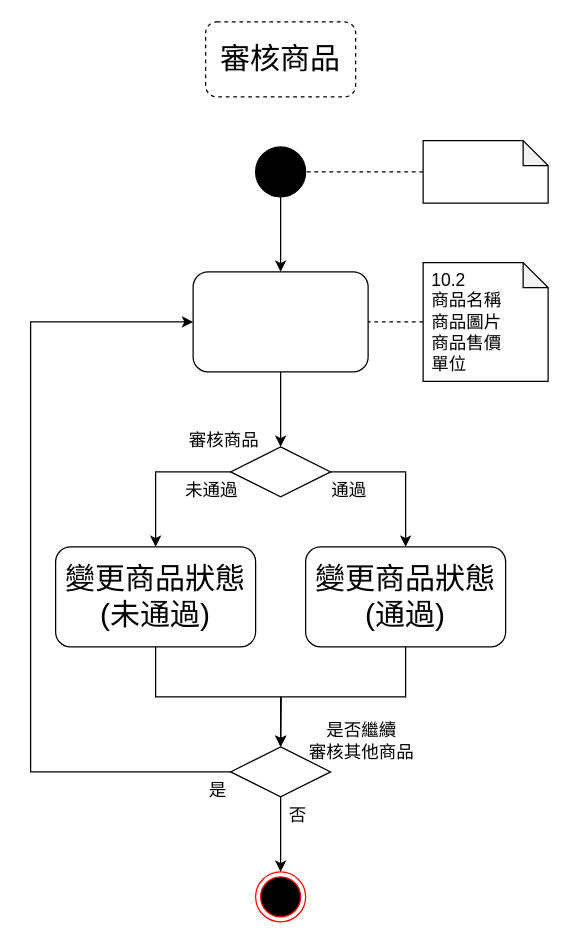
Image size: 570x944. Some labels were removed from this diagram. Each missing label, with the centre of its shape:
10.1 需要先登入: the point at 485,171
顯示 所有 商品: the point at 280,321
